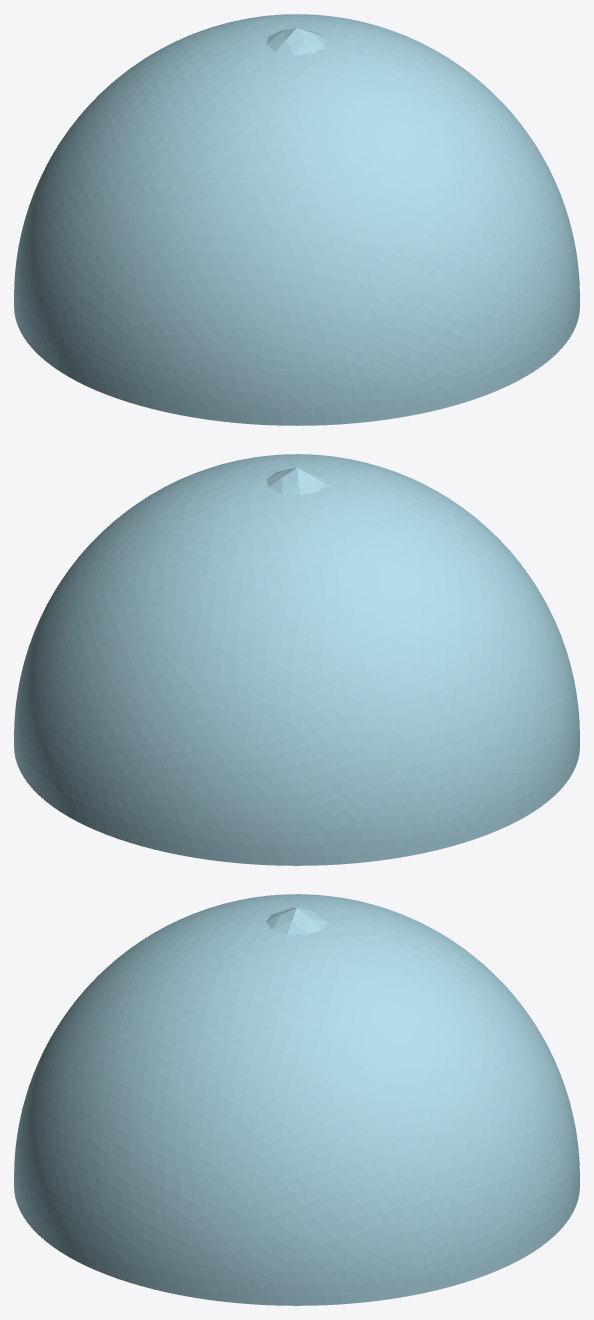
The model's file is overnight_hetero.obj.
The picture shows the model from 3 angles, top to bottom: view 1: azimuth 30°, elevation 25°; view 2: azimuth 150°, elevation 25°; view 3: azimuth 270°, elevation 25°; orthographic projection.
Visible parts, largest first — view 1: grp1; view 2: grp1; view 3: grp1.
Part boxes in pixels (bbox=[...]): grp1: bbox=[14, 14, 579, 425]; grp1: bbox=[14, 454, 579, 865]; grp1: bbox=[14, 894, 579, 1305].
Size of the model in its own units: 0.14 by 0.076 by 0.14.
